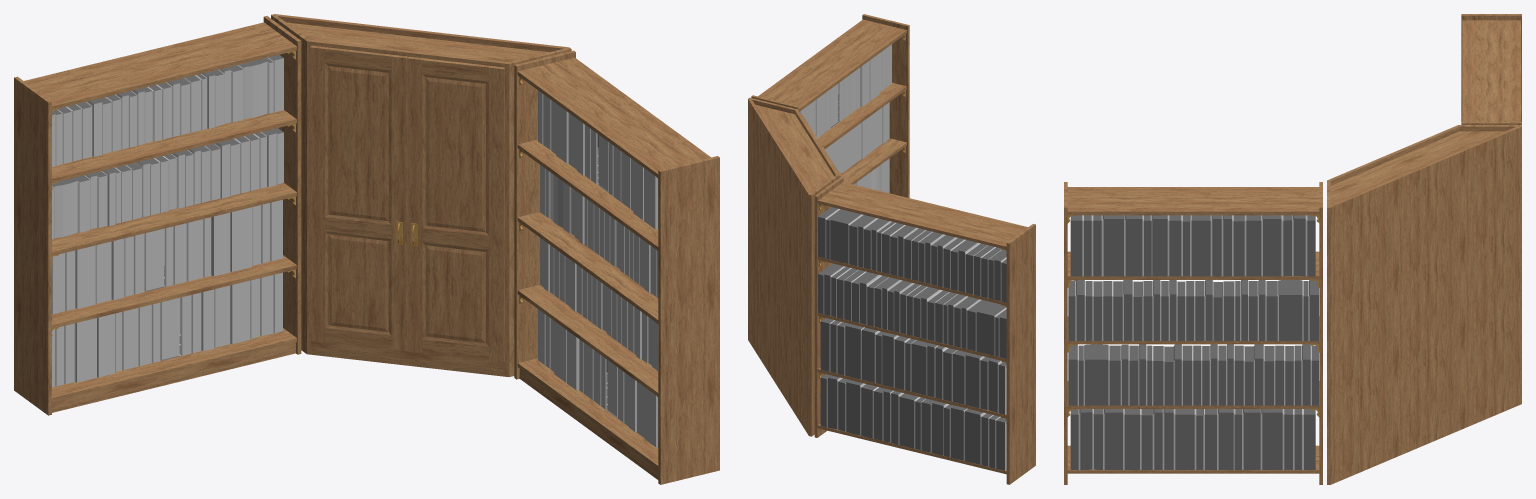
Rendered from bookcase02.dae.
3 views of the same model, side by side, from view 1: azimuth 30°, elevation 25°; view 2: azimuth 150°, elevation 25°; view 3: azimuth 270°, elevation 25° (orthographic). The views are drawn at different scales.
Parts seen in each view (by area): view 1: group_8 (×7), group_7 (×7), group_5, group_6, group_4, group_2 (×3), group_0 (×3), group_3, group_1, group_11 (×2), group_9 (×2), group_12 (+1 smaller); view 2: group_4, group_7 (×7), group_0 (×20), group_2 (×20), group_8 (×4), group_1 (×20), group_3 (×20), group_9 (×2), group_10, group_12; view 3: group_4, group_9 (×19), group_11 (×19), group_8 (×7), group_12 (×18), group_10 (×16), group_7 (×2).
Boxes of the visible parts, bbox=[...] form: group_8 (×7): bbox=[514, 50, 719, 484]; group_7 (×7): bbox=[14, 16, 301, 415]; group_5: bbox=[310, 45, 407, 351]; group_6: bbox=[407, 56, 504, 362]; group_4: bbox=[271, 14, 571, 376]; group_2 (×3): bbox=[52, 272, 282, 387]; group_0 (×3): bbox=[52, 199, 282, 314]; group_3: bbox=[52, 57, 283, 166]; group_1: bbox=[52, 131, 283, 239]; group_11 (×2): bbox=[538, 309, 658, 447]; group_9 (×2): bbox=[538, 90, 658, 229]; group_12: bbox=[540, 238, 658, 370]; group_4: bbox=[748, 97, 839, 436]; group_7 (×7): bbox=[814, 177, 1035, 484]; group_0 (×20): bbox=[820, 318, 1006, 414]; group_2 (×20): bbox=[820, 374, 1006, 470]; group_8 (×4): bbox=[758, 14, 909, 197]; group_1 (×20): bbox=[818, 263, 1006, 358]; group_3 (×20): bbox=[818, 207, 1006, 301]; group_9 (×2): bbox=[799, 44, 891, 138]; group_10: bbox=[825, 102, 889, 173]; group_12: bbox=[854, 158, 889, 193]; group_4: bbox=[1327, 125, 1521, 484]; group_9 (×19): bbox=[1070, 215, 1315, 276]; group_11 (×19): bbox=[1070, 409, 1315, 469]; group_8 (×7): bbox=[1064, 182, 1322, 484]; group_12 (×18): bbox=[1068, 344, 1311, 405]; group_10 (×16): bbox=[1075, 280, 1318, 340]; group_7 (×2): bbox=[1461, 14, 1521, 121].
Size of the model in its own units: 91.43 by 91.43 by 61.12.
